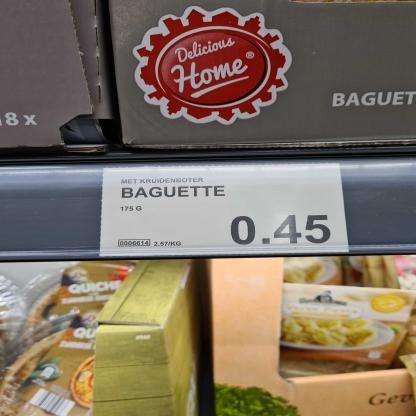prtg: (101, 164, 350, 257)
